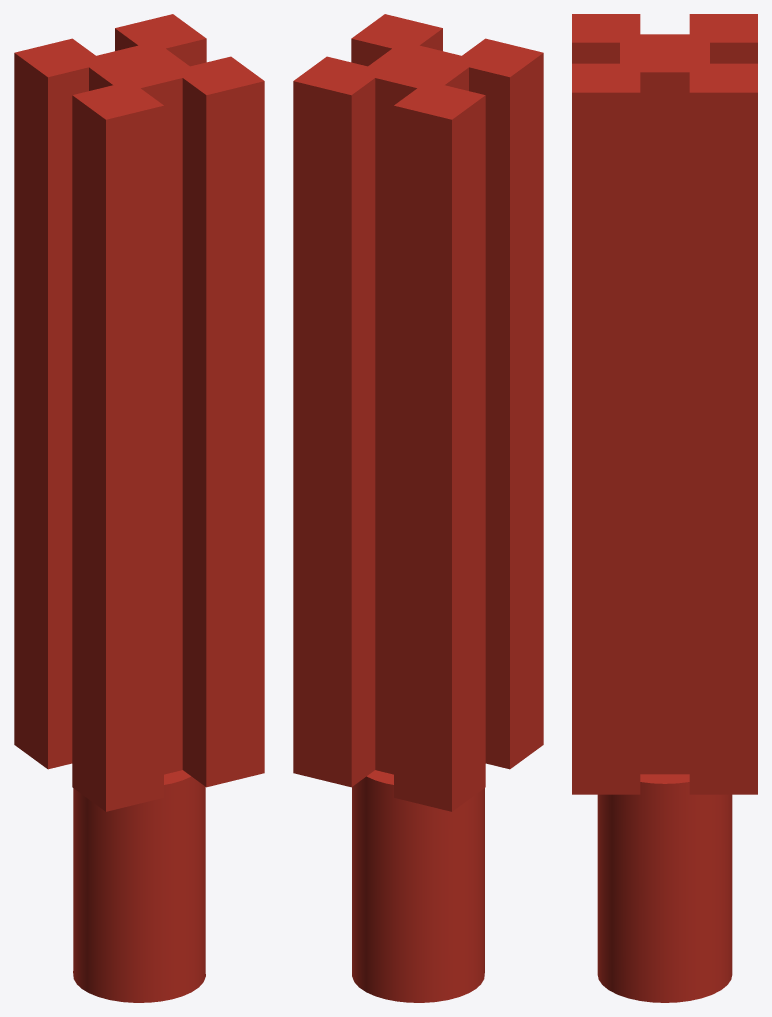
The model's file is pillar.fbx.
3 views of the same model, side by side, from view 1: azimuth 30°, elevation 25°; view 2: azimuth 150°, elevation 25°; view 3: azimuth 270°, elevation 25° (orthographic).
Parts seen in each view (by area): view 1: Body1; view 2: Body1; view 3: Body1.
Part boxes in pixels (<box>): Body1: <box>14,14,264,1002</box>; Body1: <box>293,14,543,1002</box>; Body1: <box>572,14,757,1002</box>.
Bounding box in the file's own units: 6 × 32.8 × 6.
